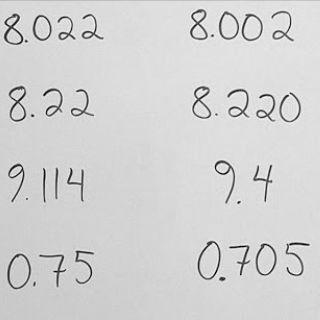.: (23, 38, 29, 44), (210, 32, 215, 38)
0: (30, 11, 54, 42), (241, 11, 264, 42), (217, 10, 240, 40)
1: (38, 165, 50, 205)
2: (269, 9, 296, 42), (80, 10, 106, 41), (56, 14, 77, 40)
4: (211, 158, 236, 207), (251, 162, 276, 203)
5: (71, 248, 98, 287), (284, 240, 311, 277)
7: (36, 248, 66, 288)
8: (1, 12, 25, 46), (189, 8, 210, 40)
